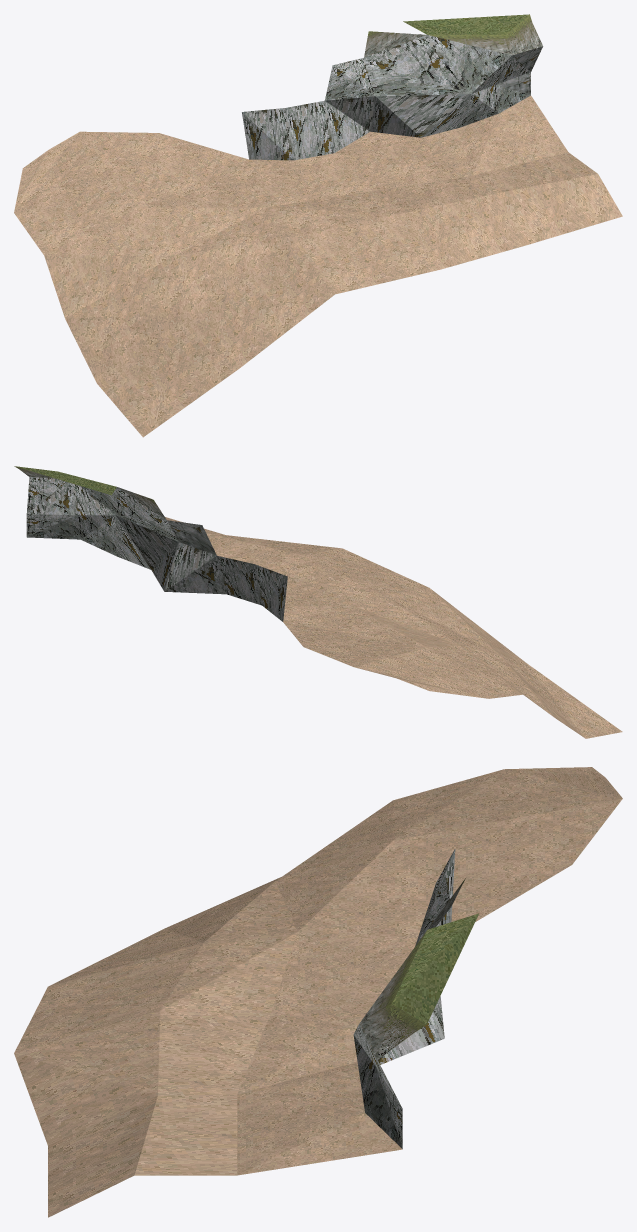
The model's file is cs_lodbit_76.obj.
3 views of the same model, one above another, from view 1: azimuth 30°, elevation 25°; view 2: azimuth 150°, elevation 25°; view 3: azimuth 270°, elevation 25° (orthographic). The views are drawn at different scales.
Parts seen in each view (by area): view 1: cs_lodbit_76; view 2: cs_lodbit_76; view 3: cs_lodbit_76.
Boxes of the visible parts, x1=… form: cs_lodbit_76: x1=14, y1=14, x2=622, y2=437; cs_lodbit_76: x1=14, y1=466, x2=622, y2=738; cs_lodbit_76: x1=14, y1=767, x2=622, y2=1217.
Bounding box in the file's own units: 239 × 107 × 144.
Materials: 4 (4 with a texture image).
